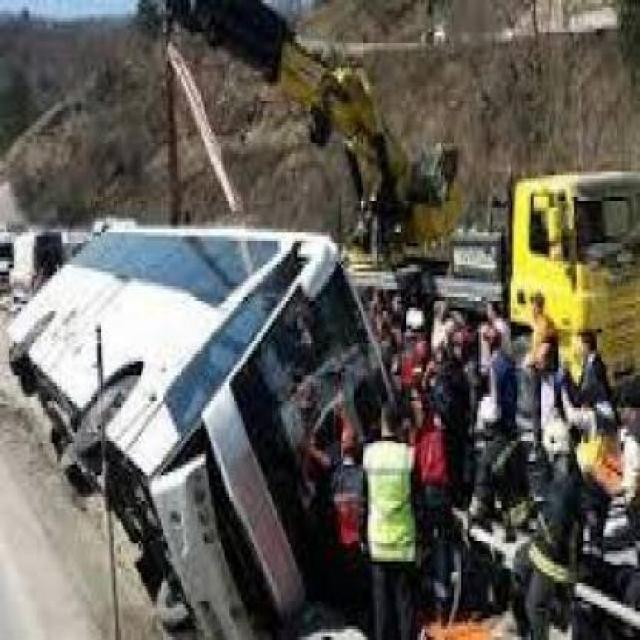accident: (8, 151, 532, 640)
